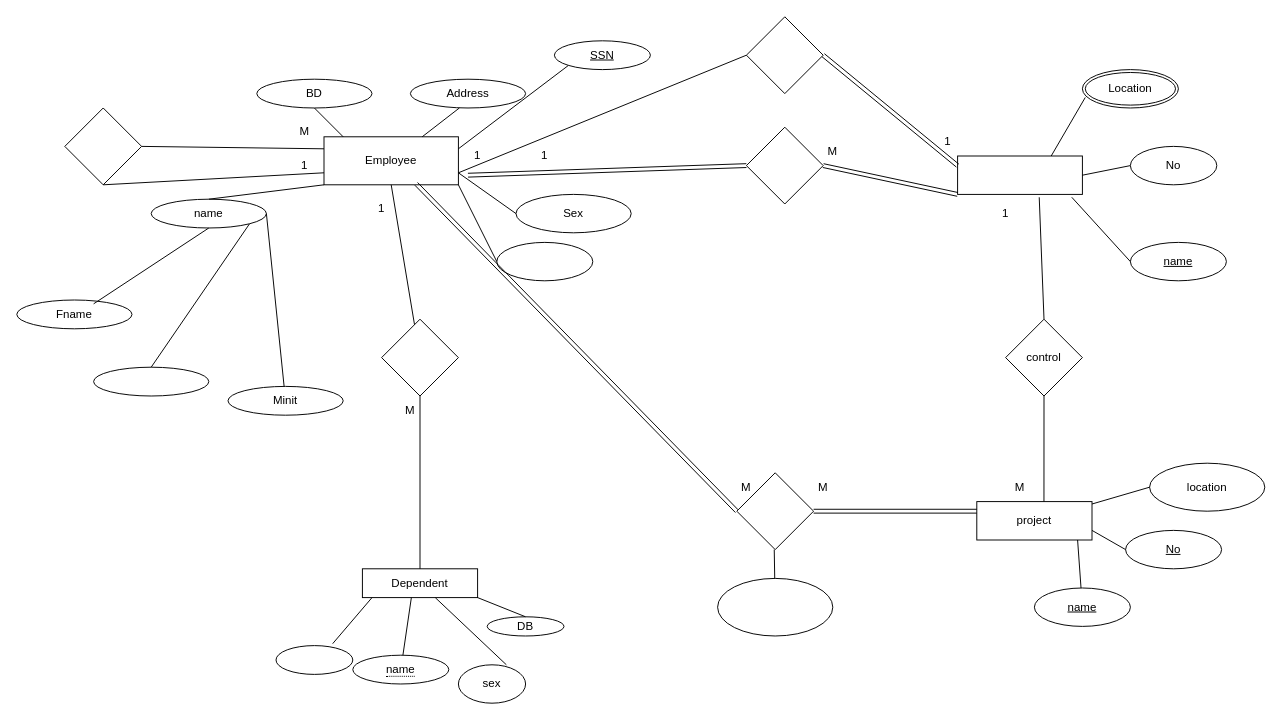
Some shapes in this 1282 by 720 pixel diagram are drawn without their labels. Each missing label, with the box of its shape:
Department: (957, 155, 1082, 194)
have: (381, 318, 458, 396)
hours logged: (717, 577, 833, 636)
Lname: (93, 366, 209, 396)
mange: (745, 16, 823, 94)
Relational: (275, 645, 353, 674)
Salary: (496, 241, 593, 281)
suprevise: (64, 107, 142, 185)
work for: (745, 126, 823, 204)
work on: (736, 472, 814, 550)
